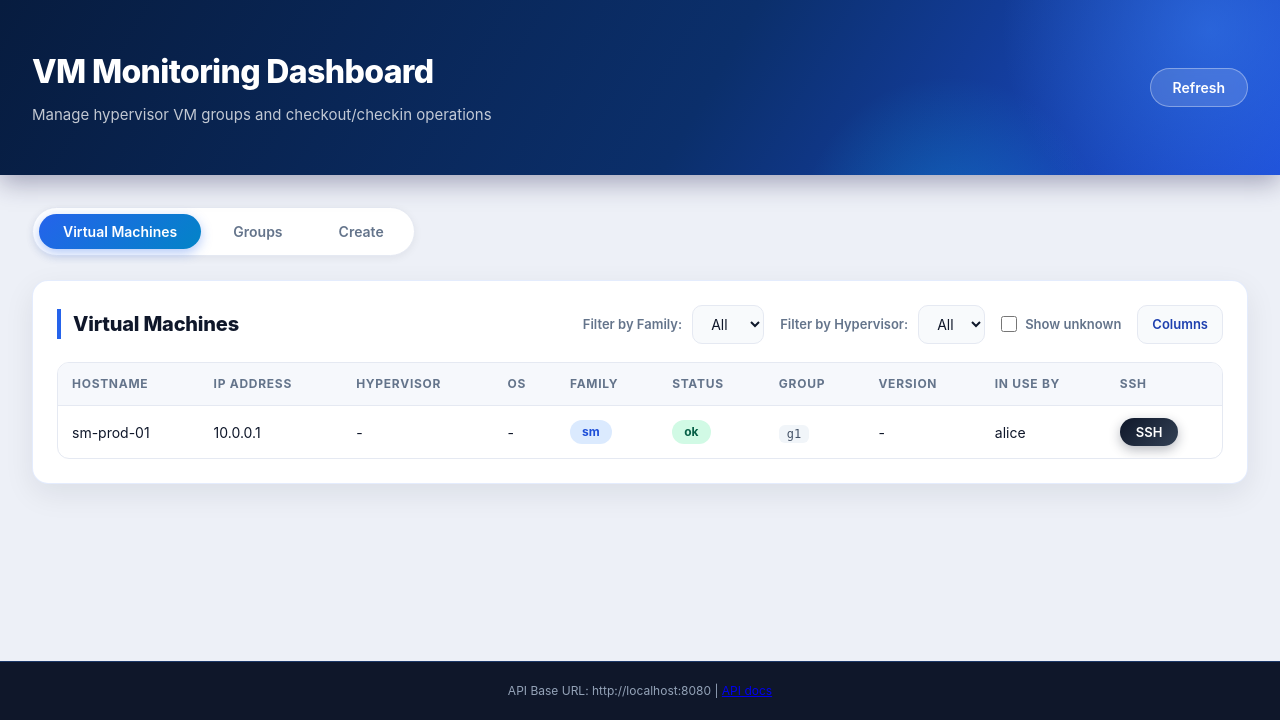
it: App › page VMs : checkout propagé, puis page Groups
Expected: the text "sm-prod-01" is shown once, [58, 406, 200, 458]
Expected: the text "alice" is shown once, [981, 406, 1106, 458]
Click the button "Groups" at (258, 231), box [209, 214, 307, 248]
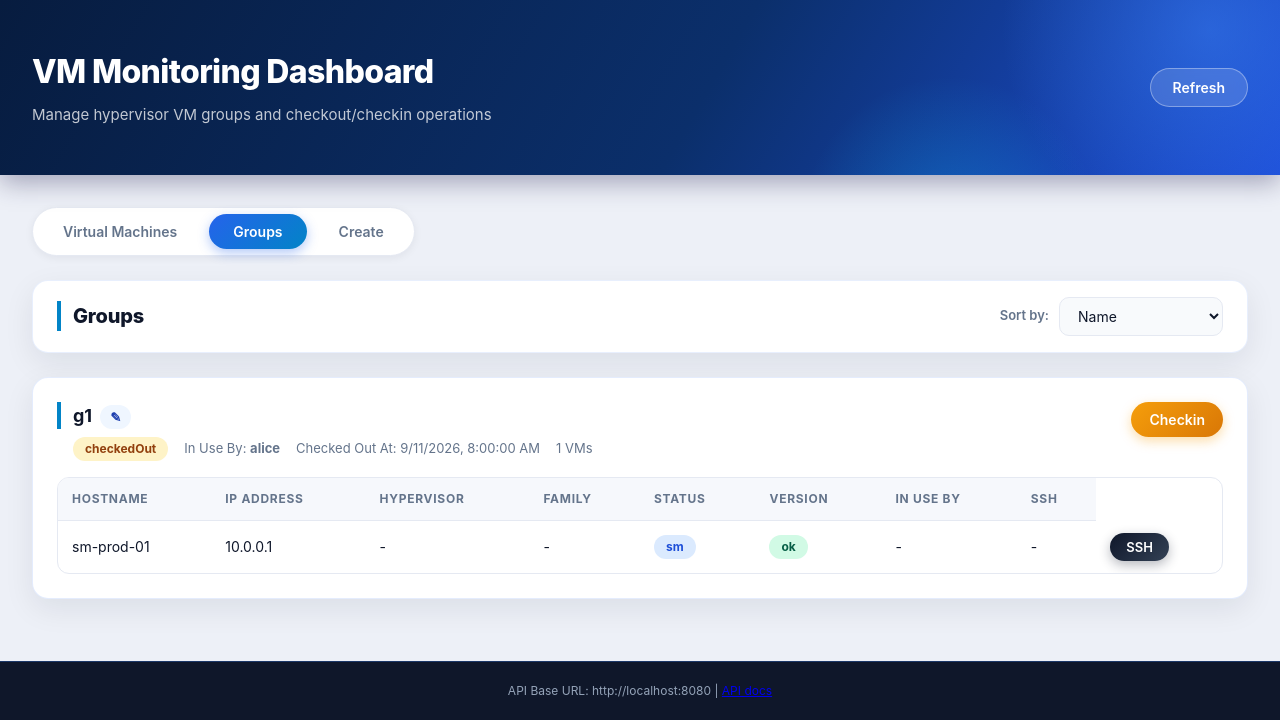
Expected: the text "g1" is shown, [73, 404, 92, 426]
Now the text "sm-prod-01" is shown once, box [58, 520, 211, 572]
Now the text "alice" is shown once, box [250, 440, 280, 456]
